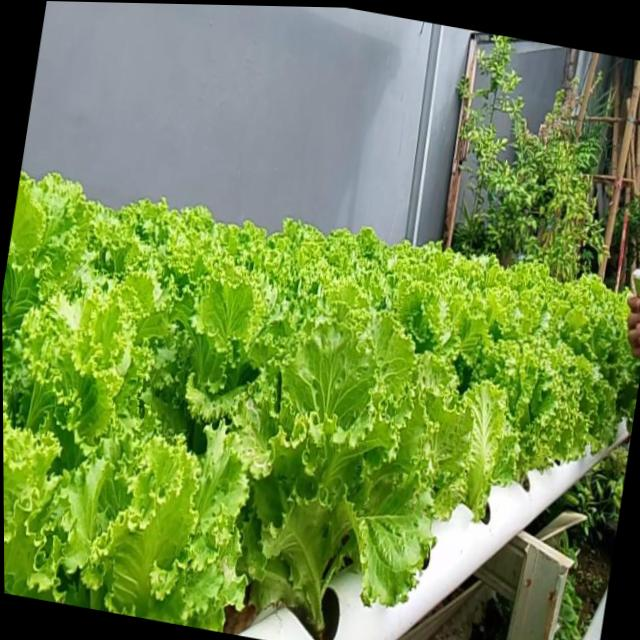Mature: (2, 171, 640, 640), (234, 319, 469, 640), (484, 333, 597, 490)
